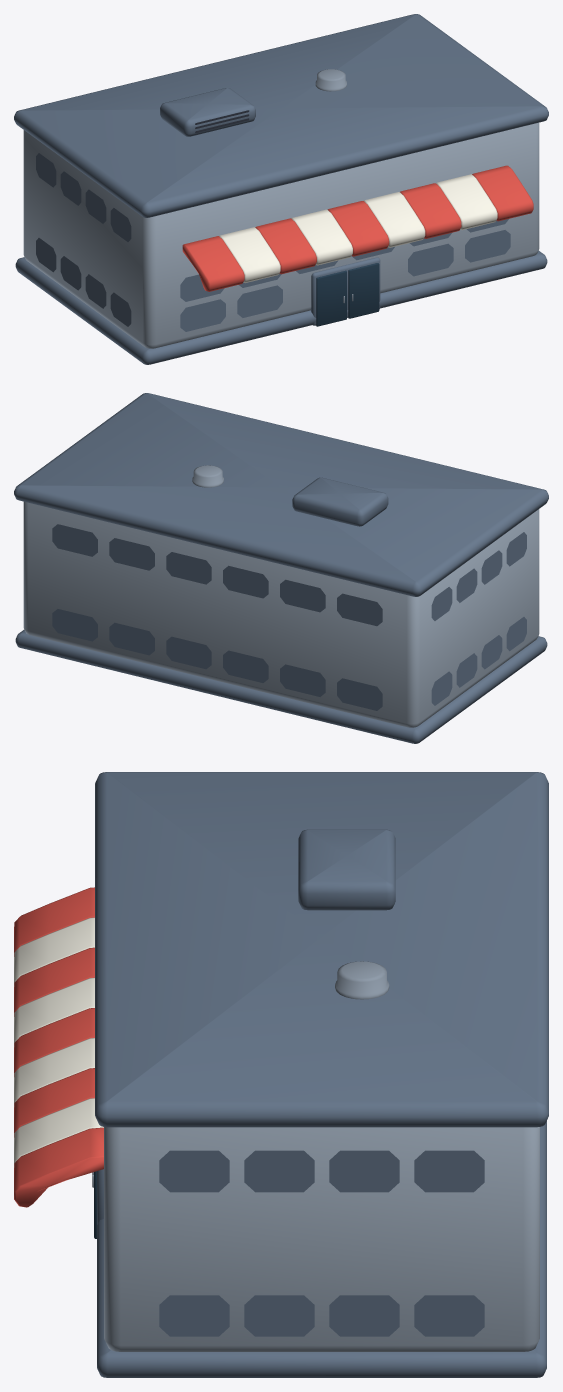
File: deco-edificio-c.glb
The picture shows the model from 3 angles, top to bottom: view 1: azimuth 30°, elevation 25°; view 2: azimuth 150°, elevation 25°; view 3: azimuth 270°, elevation 25°; orthographic projection. The views are drawn at different scales.
Visible parts, largest first — view 1: deco-edificio-c; view 2: deco-edificio-c; view 3: deco-edificio-c.
Boxes of the visible parts, bbox=[...] form: deco-edificio-c: bbox=[14, 14, 548, 364]; deco-edificio-c: bbox=[14, 393, 548, 743]; deco-edificio-c: bbox=[14, 772, 548, 1377].
Bounding box in the file's own units: 24 × 10 × 16.
